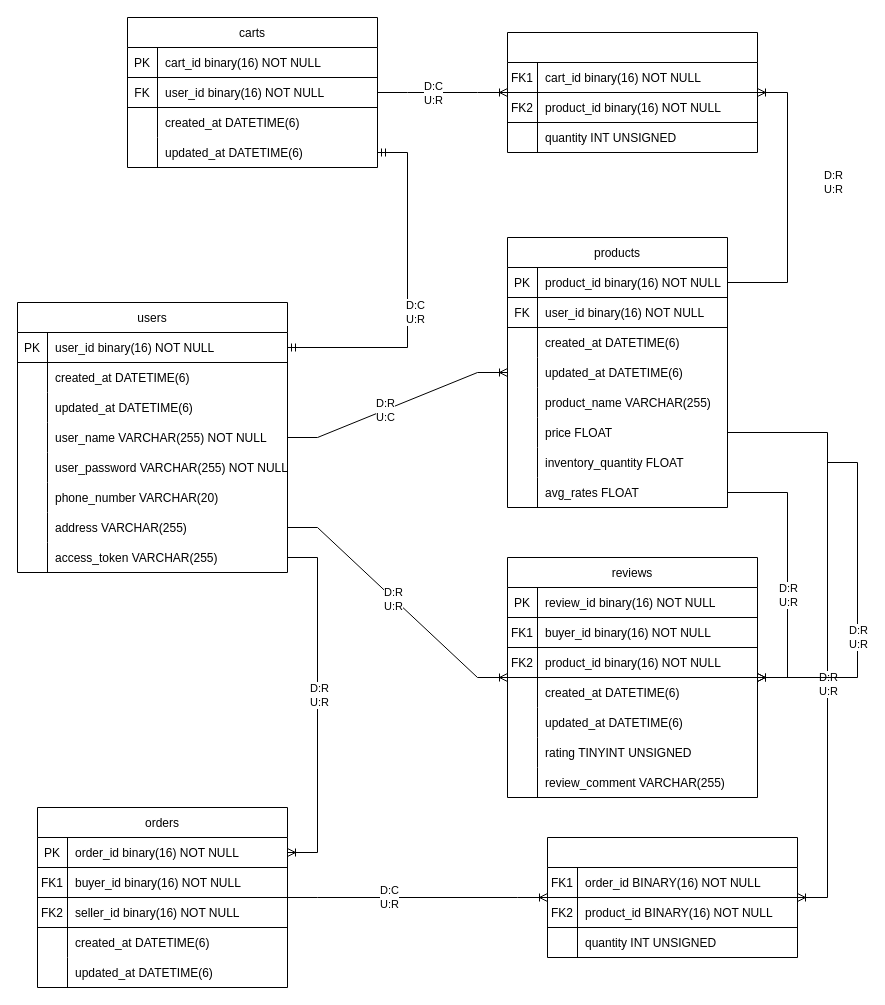
This 885x1005 diagram has some shape labels left out. The box of each missing label's shape, as (x1, y1, x2, y2) in pixels:
cart_product: (506, 32, 758, 152)
order_product: (546, 836, 798, 958)
